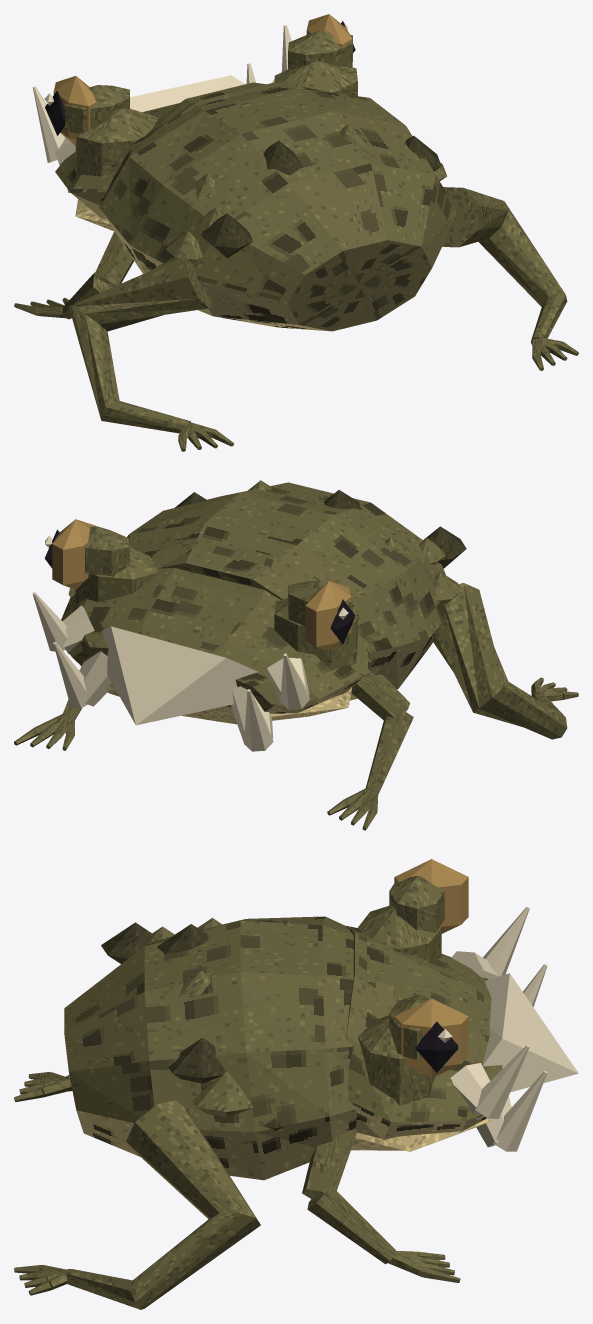
Rendered from mon_foul_megafrog.glb.
3 renders of one model, top to bottom at view 1: azimuth 30°, elevation 25°; view 2: azimuth 150°, elevation 25°; view 3: azimuth 270°, elevation 25°, orthographic. The views are drawn at different scales.
Parts seen in each view (by area): view 1: closed_body; view 2: closed_body; view 3: closed_body.
Part boxes in pixels (<box>): closed_body: <box>14,14,578,451</box>; closed_body: <box>14,480,578,830</box>; closed_body: <box>14,859,578,1309</box>.
Bounding box in the file's own units: 1.93 × 0.9067 × 1.79.
1 material, 1 textured.
